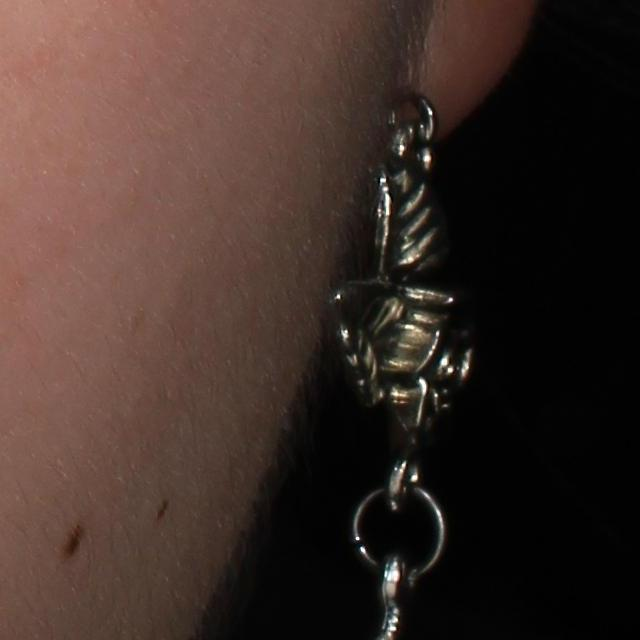nevus: (67, 525, 83, 557)
